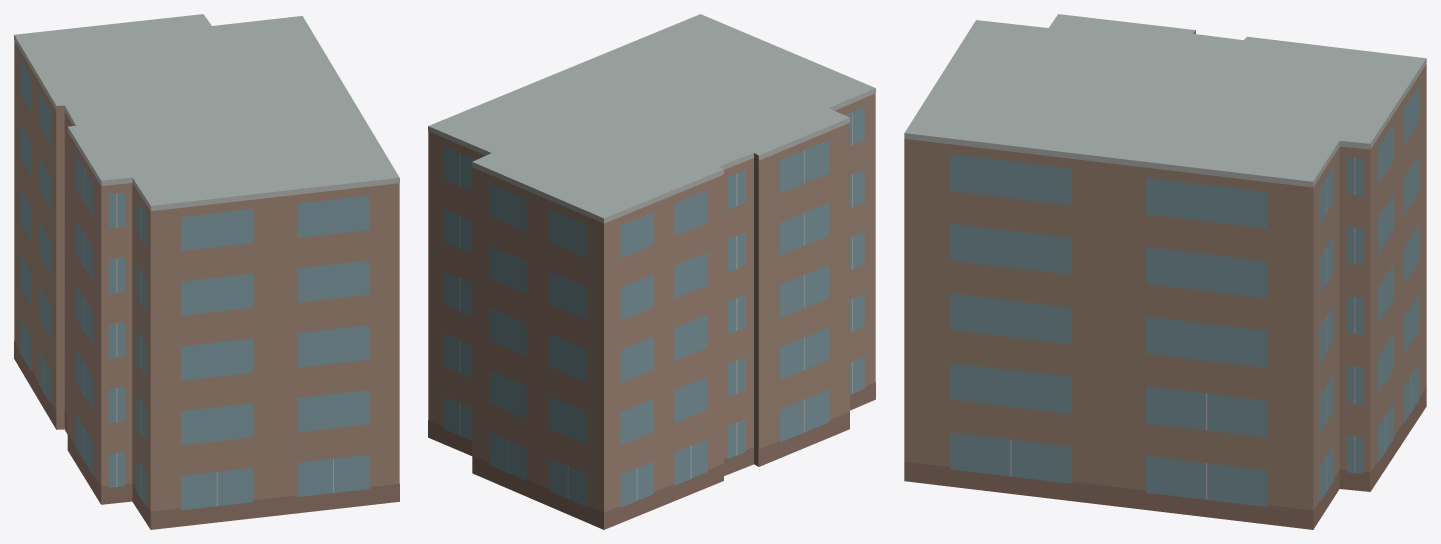
File: survey-upis-32975149.glb
3 views of the same model, side by side, from view 1: azimuth 30°, elevation 25°; view 2: azimuth 150°, elevation 25°; view 3: azimuth 270°, elevation 25° (orthographic). The views are drawn at different scales.
Parts seen in each view (by area): view 1: survey-upis-32975149.tmp; view 2: survey-upis-32975149.tmp; view 3: survey-upis-32975149.tmp.
Part boxes in pixels (x1,y1,x2,y2): survey-upis-32975149.tmp: [14, 14, 399, 529]; survey-upis-32975149.tmp: [428, 14, 875, 529]; survey-upis-32975149.tmp: [904, 14, 1426, 529].
Bounding box in the file's own units: 15.31 × 14.8 × 20.13.
